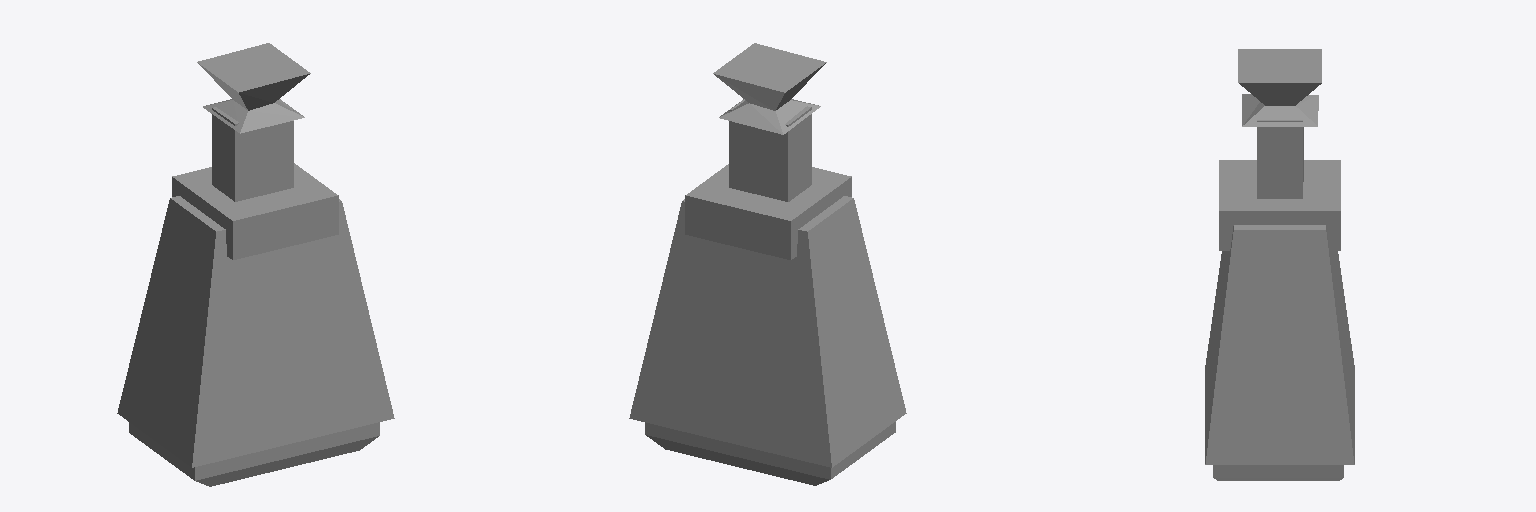
The model's file is brandy.obj.
The picture shows the model from 3 angles: view 1: azimuth 30°, elevation 25°; view 2: azimuth 150°, elevation 25°; view 3: azimuth 270°, elevation 25°; orthographic projection.
Visible parts, largest first — view 1: Cube.004; view 2: Cube.004; view 3: Cube.004.
Boxes of the visible parts, box(x1,y1,x2,y2) form: Cube.004: box(117, 43, 394, 486); Cube.004: box(629, 43, 906, 485); Cube.004: box(1205, 49, 1354, 480).
Size of the model in its own units: 2.75 by 4.91 by 1.75.